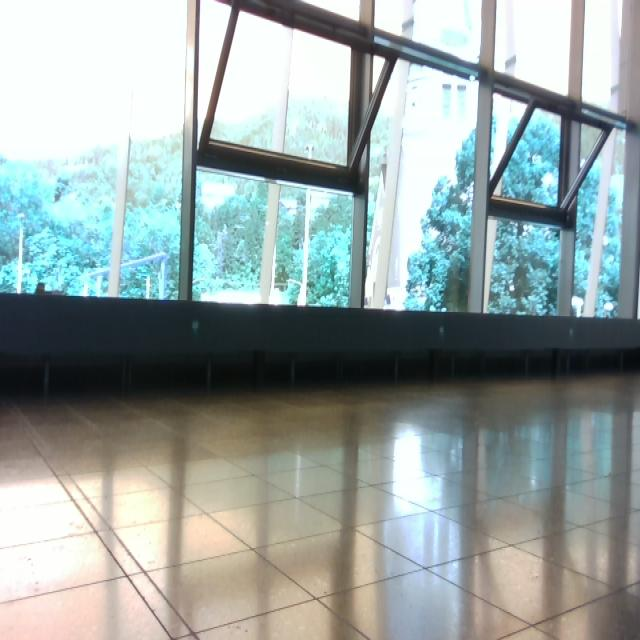light bulb: (571, 296, 584, 317), (604, 301, 614, 317)
tiled floor: (2, 373, 639, 638)
window: (1, 1, 639, 321)
